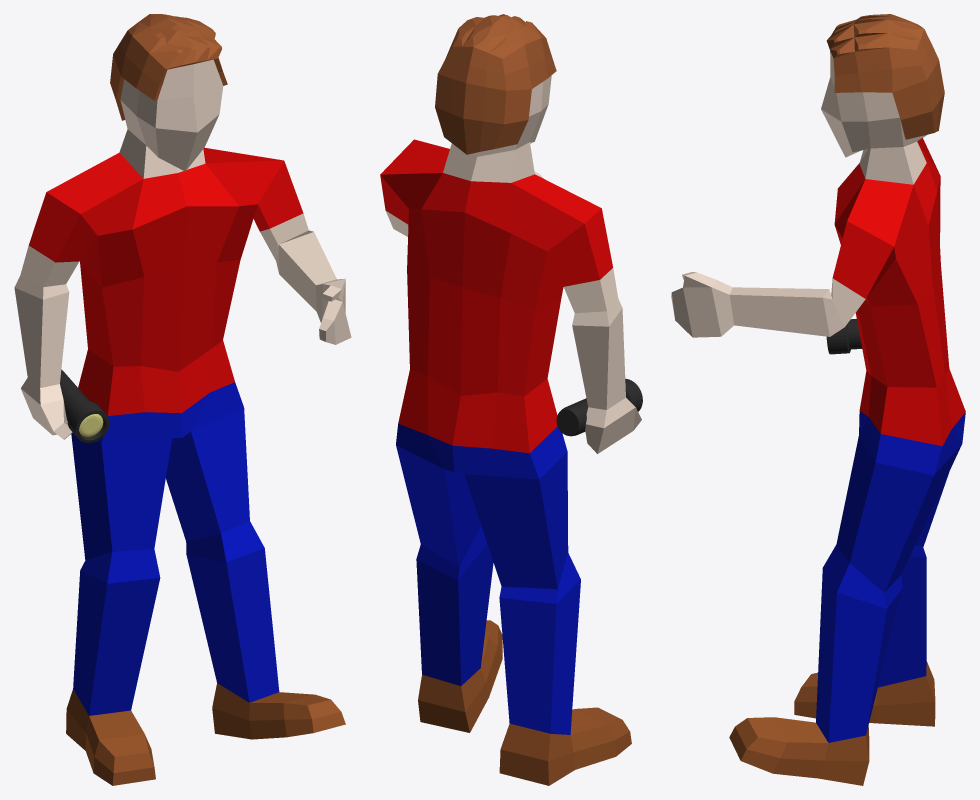
File: Human_grabbing_16.fbx
The picture shows the model from 3 angles, left to right: view 1: azimuth 30°, elevation 25°; view 2: azimuth 150°, elevation 25°; view 3: azimuth 270°, elevation 25°; orthographic projection.
Visible parts, largest first — view 1: Person.003, Cylinder.002; view 2: Person.003, Cylinder.002; view 3: Person.003, Cylinder.002.
Part boxes in pixels (x1,y1,x2,y2): Person.003: [14, 14, 351, 785]; Cylinder.002: [60, 369, 109, 443]; Person.003: [380, 14, 641, 785]; Cylinder.002: [556, 378, 642, 436]; Person.003: [671, 14, 965, 785]; Cylinder.002: [826, 319, 862, 354].
Bounding box in the file's own units: 0.5822 × 1.57 × 0.5787.
